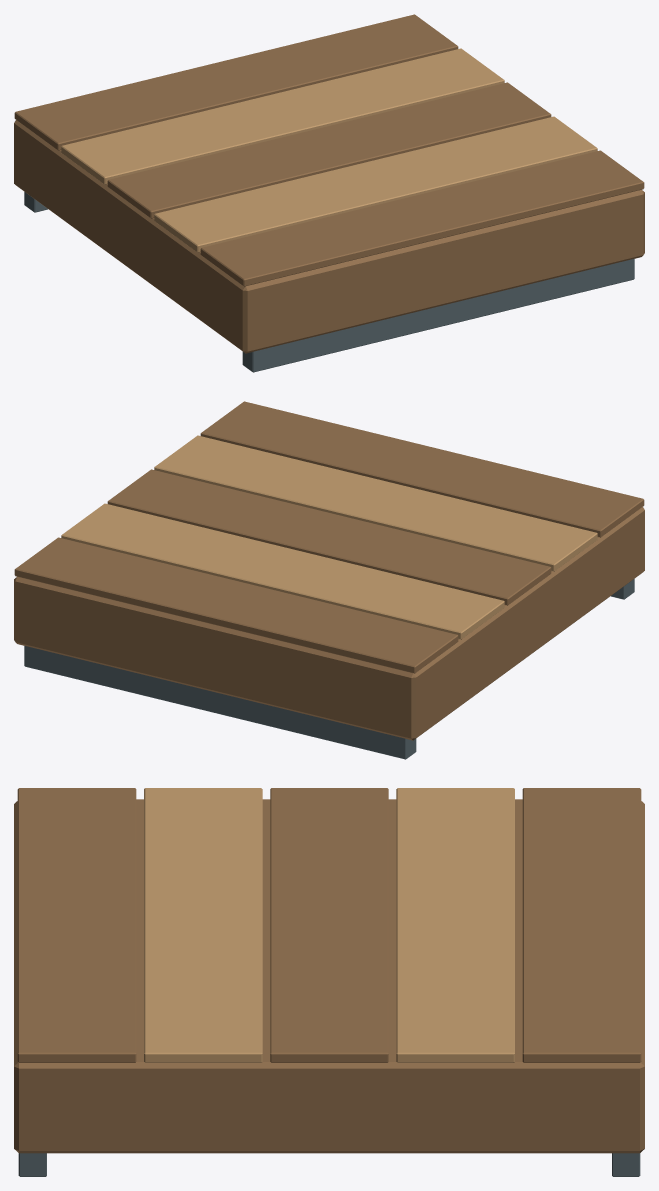
Rendered from wood-roof.glb.
3 views of the same model, one above another, from view 1: azimuth 30°, elevation 25°; view 2: azimuth 150°, elevation 25°; view 3: azimuth 270°, elevation 25° (orthographic). The views are drawn at different scales.
Parts seen in each view (by area): view 1: Roof slab.002, Weatherproof timber roof.005, Roof support beam.004; view 2: Roof slab.002, Weatherproof timber roof.005, Roof support beam.004; view 3: Roof slab.002, Weatherproof timber roof.005, Roof support beam.004.
Part boxes in pixels (box(x1,y1,x2,y2)): Roof slab.002: box(14, 14, 644, 353); Weatherproof timber roof.005: box(61, 48, 597, 252); Roof support beam.004: box(24, 192, 634, 372); Roof slab.002: box(14, 401, 644, 740); Weatherproof timber roof.005: box(61, 435, 597, 639); Roof support beam.004: box(24, 579, 634, 759); Roof slab.002: box(14, 788, 644, 1153); Weatherproof timber roof.005: box(144, 788, 514, 1062); Roof support beam.004: box(18, 1153, 640, 1176).
Bounding box in the file's own units: 1 × 0.228 × 1.
